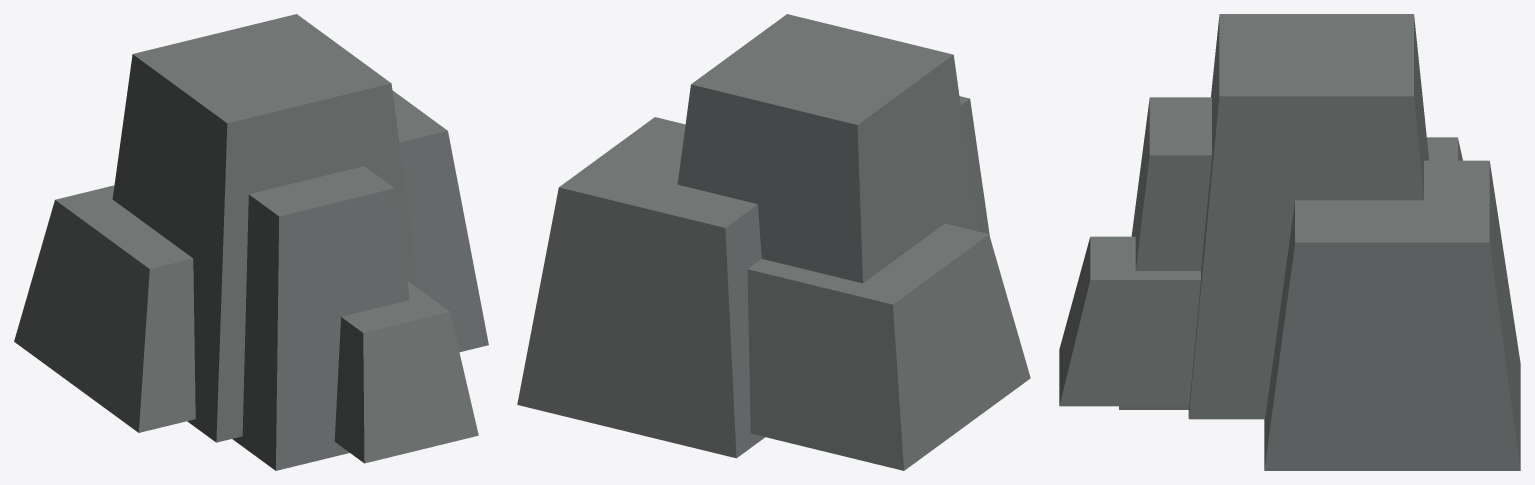
Rendered from rocks.glb.
The picture shows the model from 3 angles, left to right: view 1: azimuth 30°, elevation 25°; view 2: azimuth 150°, elevation 25°; view 3: azimuth 270°, elevation 25°; orthographic projection. The views are drawn at different scales.
Parts seen in each view (by area): view 1: SM_Env_Dungeon_Rocks_01; view 2: SM_Env_Dungeon_Rocks_01; view 3: SM_Env_Dungeon_Rocks_01.
Part boxes in pixels (left/top/right/bottom): SM_Env_Dungeon_Rocks_01: left=14, top=14, right=488, bottom=470; SM_Env_Dungeon_Rocks_01: left=517, top=14, right=1030, bottom=470; SM_Env_Dungeon_Rocks_01: left=1059, top=14, right=1520, bottom=470.
Bounding box in the file's own units: 0.5912 × 0.4814 × 0.6288.
1 material, 1 textured.
